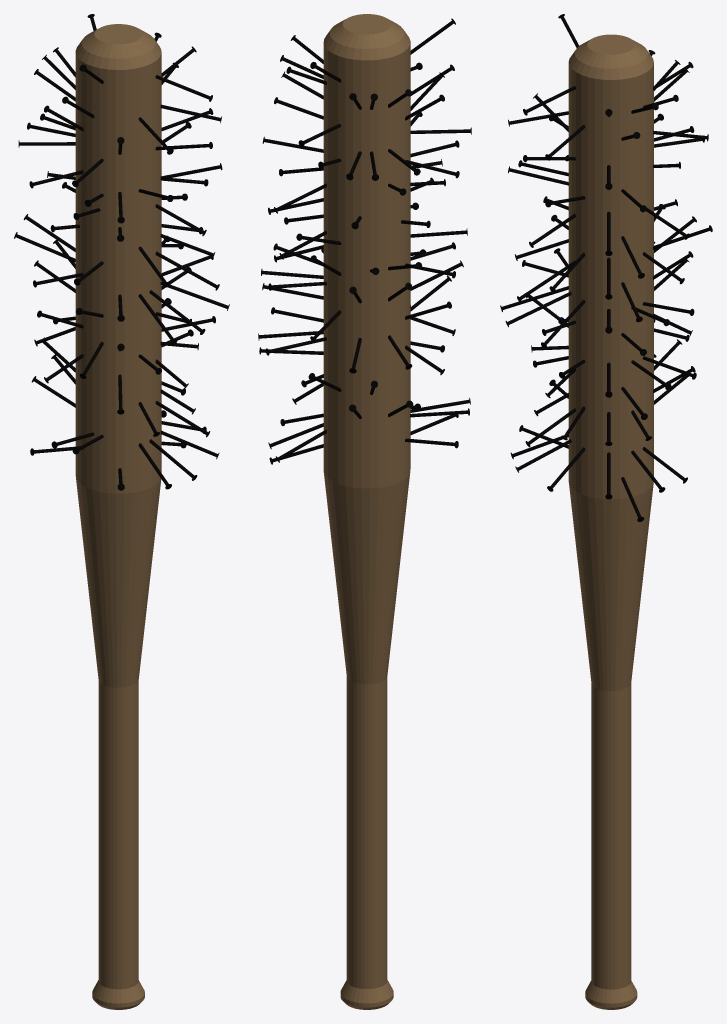
File: BatAnimated.fbx
3 views of the same model, side by side, from view 1: azimuth 30°, elevation 25°; view 2: azimuth 150°, elevation 25°; view 3: azimuth 270°, elevation 25° (orthographic). The views are drawn at different scales.
Parts seen in each view (by area): view 1: bat; view 2: bat; view 3: bat.
Part boxes in pixels (x1,y1,x2,y2): bat: [14, 14, 229, 1009]; bat: [258, 14, 471, 1009]; bat: [500, 14, 712, 1009].
Bounding box in the file's own units: 172 × 871 × 175.
